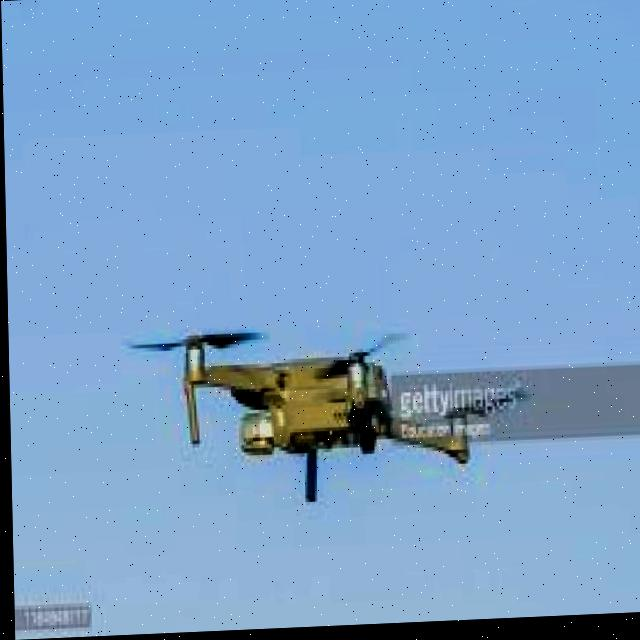drone: (130, 295, 511, 544)
